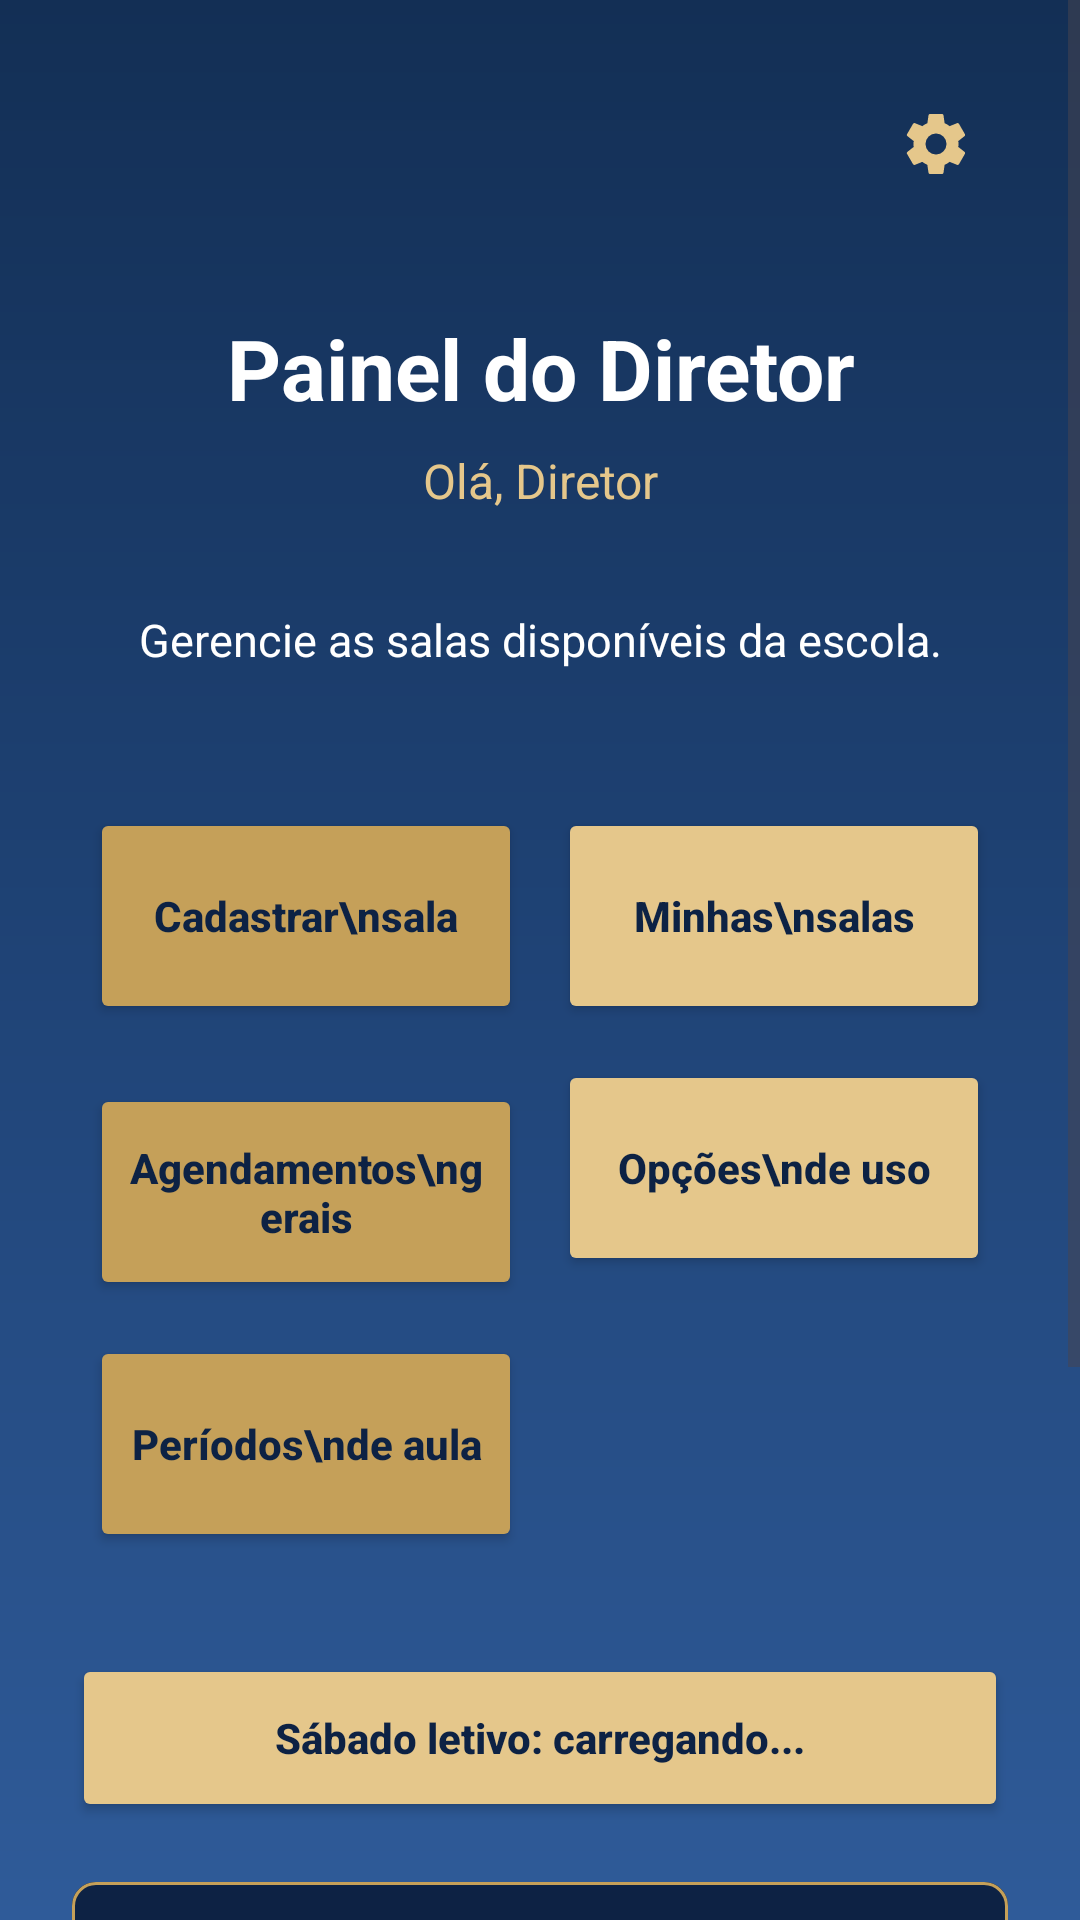

Icon bounding boxes for this 1080 x 1920 phone screenshot, format (x1, y1, x2, y2):
Configurações: (906, 114, 965, 174)
